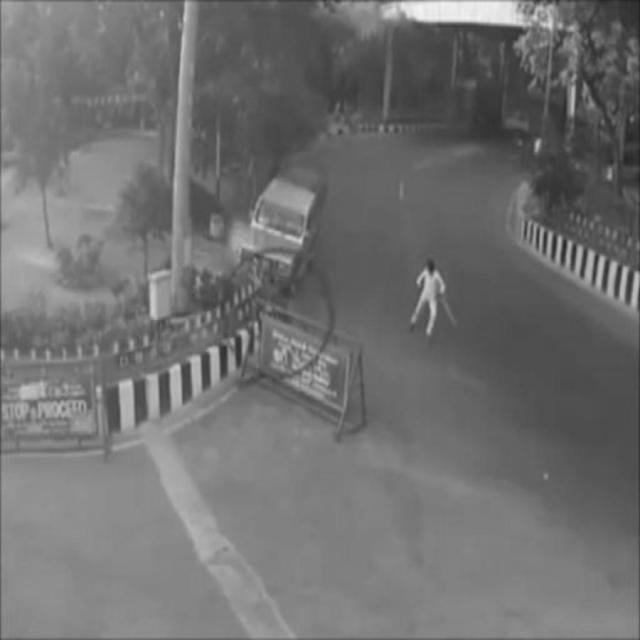accident: (238, 151, 329, 291)
person: (409, 261, 449, 345)
